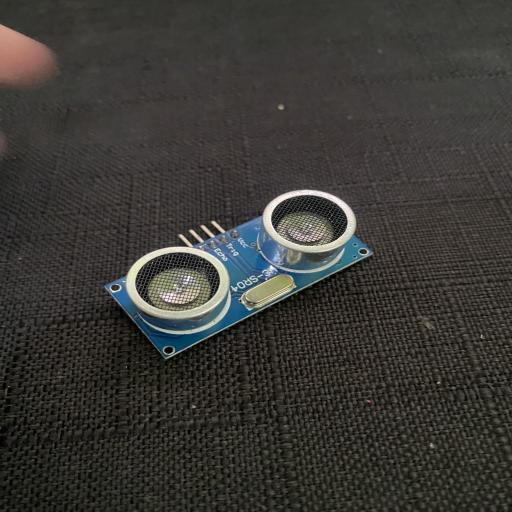Ultrasonic Sensor: (104, 189, 373, 359)
